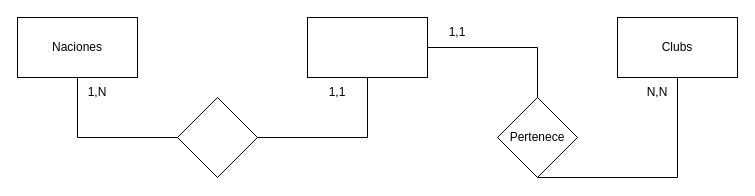
Image size: 755x196. Some labels were removed from this diagram. The shapes that lost their labels are listed below. From the top down, each one's box as (x1, y1, x2, y2) in pixels, then its label:
(306, 16, 428, 78): Jugadores
(176, 96, 258, 178): Representa
